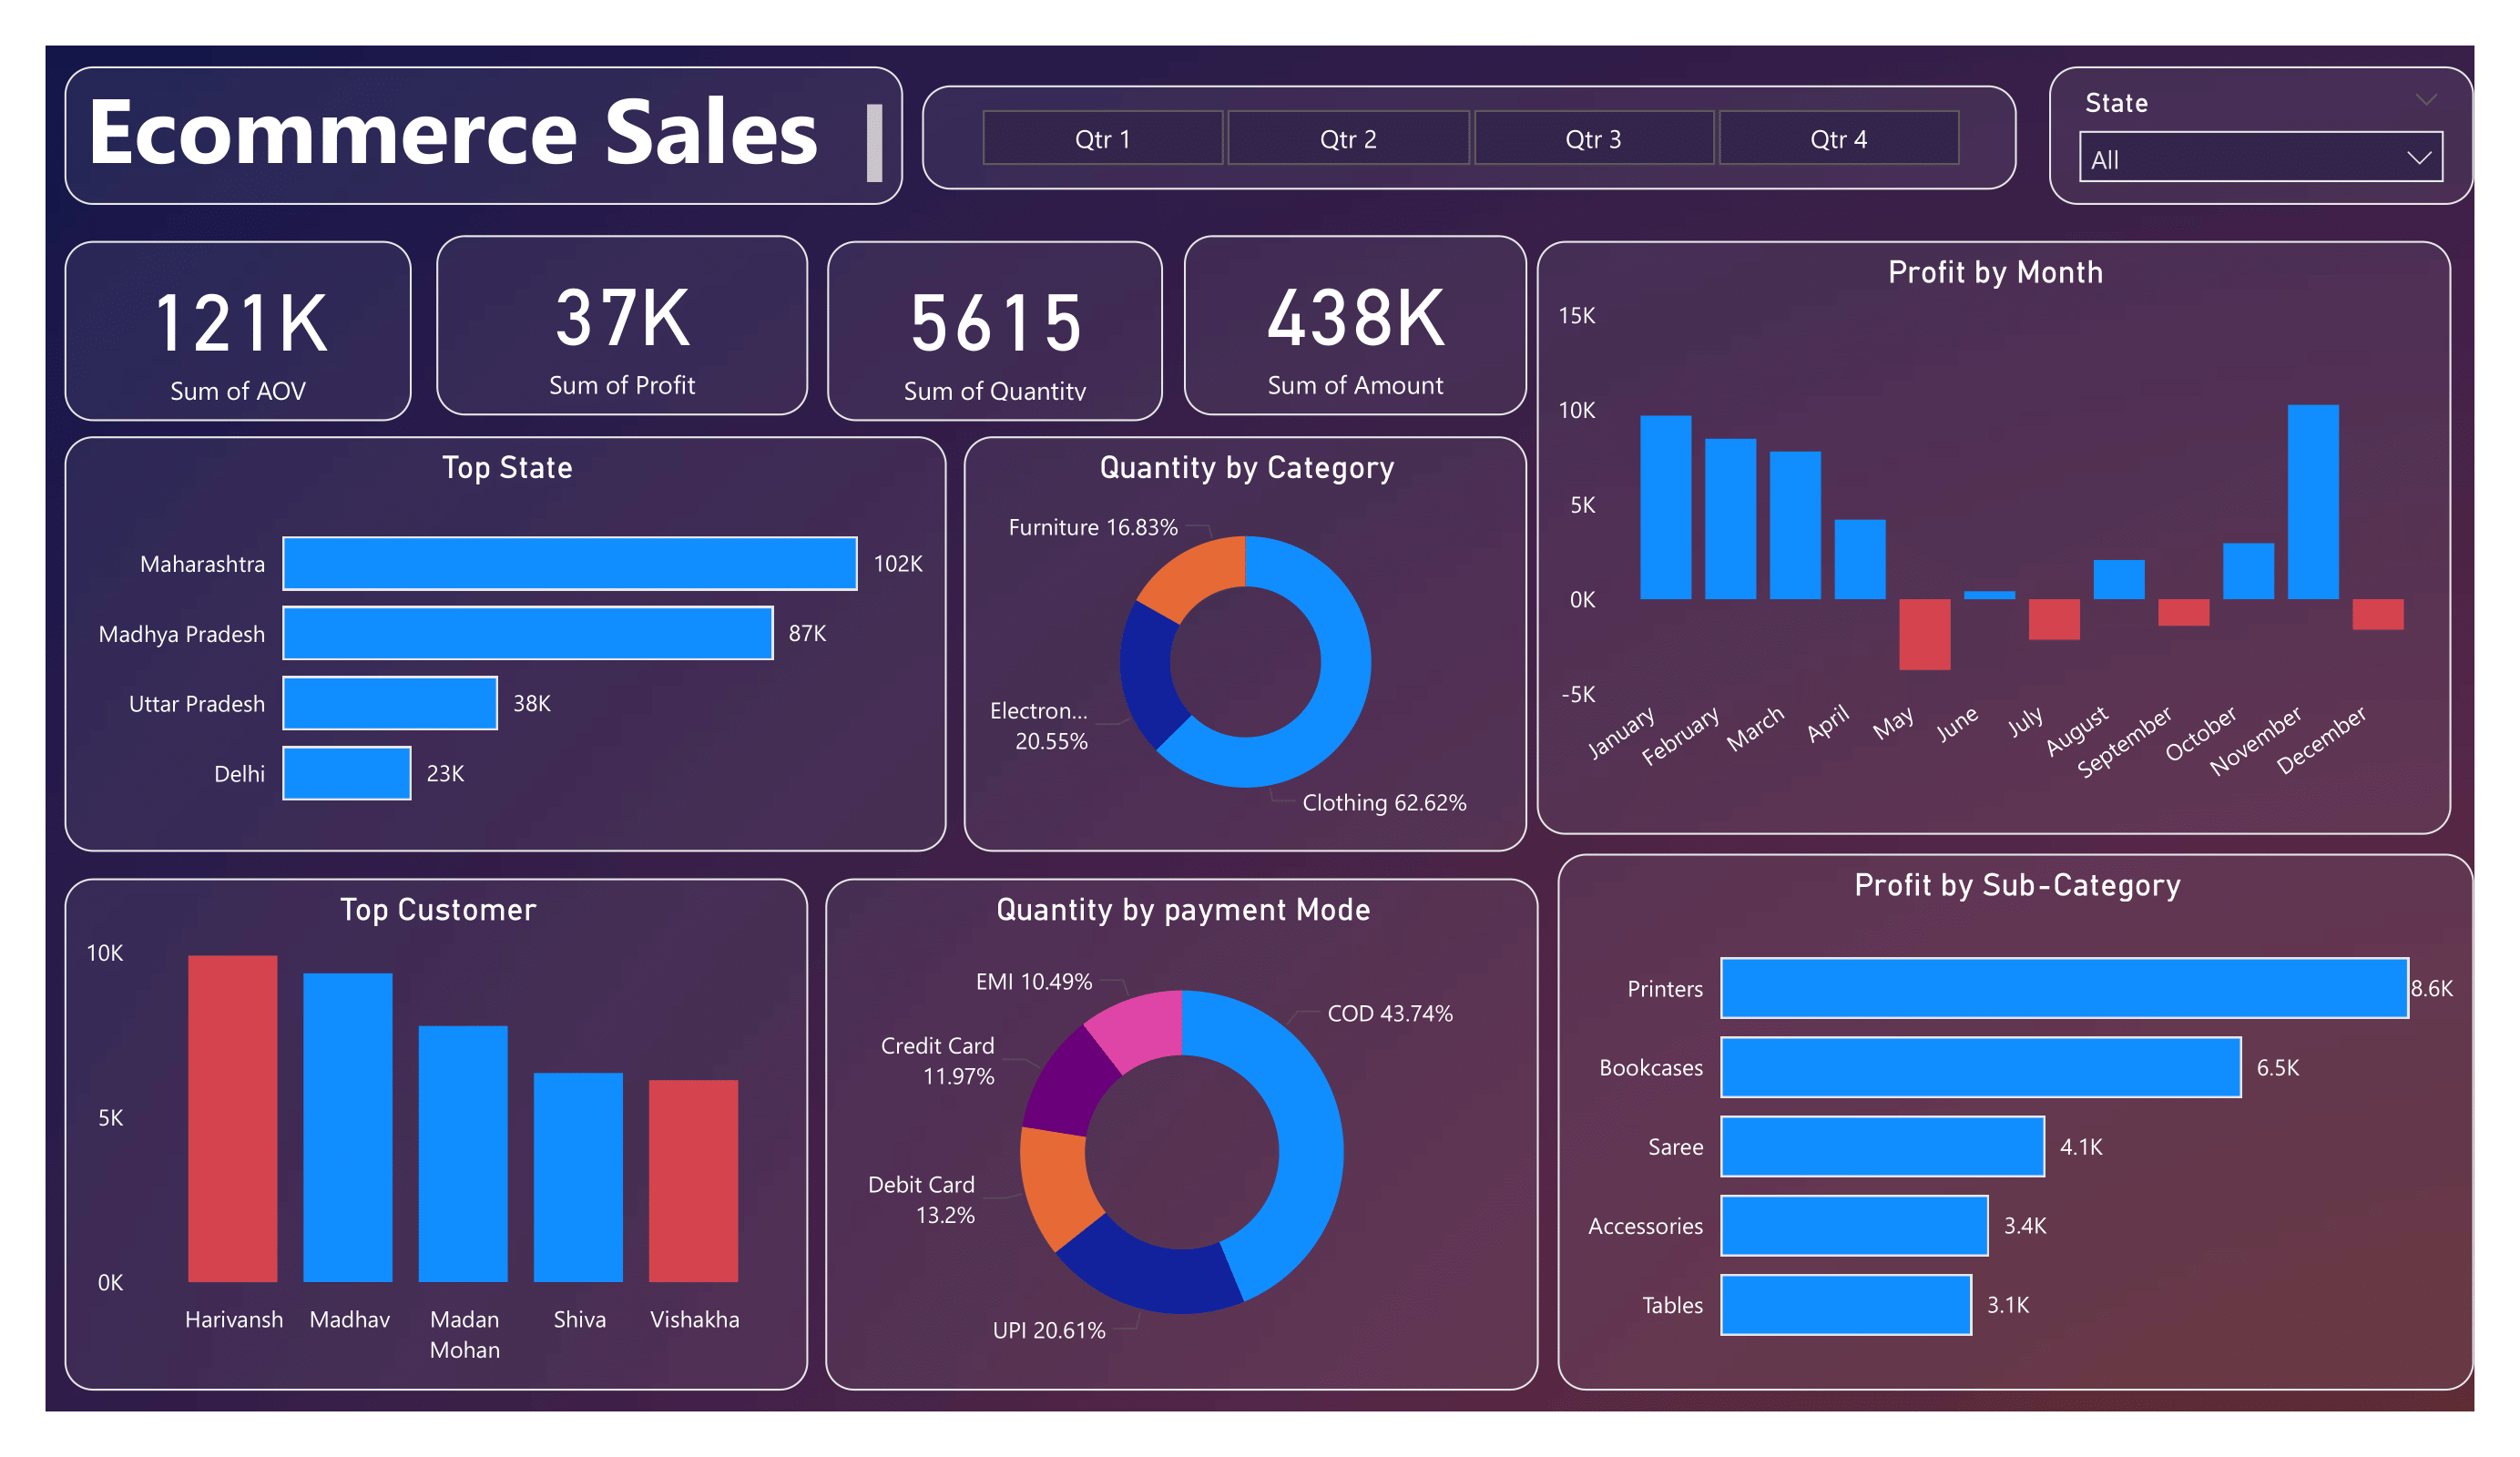

What the dashboard file says about the page in this screenshot:
{"tool":"powerbi","page":{"name":"Page 1","canvas":[1280,720],"ordinal":0},"visuals":[{"type":"textbox","box":[9.7,10.9,442.8,73.6],"z":0},{"type":"columnChart","title":"Profit by Month","fields":{"Category":["Orders.Order Date.Variation.Date Hierarchy.Month"],"Y":["Details.Profit"]},"box":[786.3,102.9,481.6,312.9],"z":1000},{"type":"barChart","title":"Profit by Sub-Category","fields":{"Y":["Details.Profit"],"Category":["Details.Sub-Category"]},"box":[797.5,425.9,482.6,283.5],"z":2000},{"type":"donutChart","title":"Quantity by Category","fields":{"Category":["Details.Category"],"Y":["Details.Quantity"]},"box":[484.4,205.8,296.4,219.6],"z":3000},{"type":"donutChart","title":"Quantity by payment Mode","fields":{"Category":["Details.PaymentMode","Details.Category"],"Y":["Details.Quantity"]},"box":[411.4,439.1,375.2,270.2],"z":4000},{"type":"card","fields":{"Values":["Details.Amount"]},"box":[599.7,100.2,181.1,94.7],"z":4001},{"type":"card","fields":{"Values":["Details.Quantity"]},"box":[411.7,102.9,177,94.7],"z":4002},{"type":"card","fields":{"Values":["Details.Profit"]},"box":[205.8,100.2,196.2,94.7],"z":4003},{"type":"card","fields":{"Values":["Details.AOV"]},"box":[9.6,102.9,183.9,94.7],"z":4004},{"type":"barChart","title":"Top State","fields":{"Category":["Orders.State"],"Y":["Details.Amount"]},"box":[9.6,205.8,465.2,219.6],"z":4005},{"type":"columnChart","title":"Top Customer","fields":{"Category":["Orders.CustomerName"],"Y":["Details.Amount"]},"box":[9.6,439.1,392.5,270.3],"z":4006},{"type":"slicer","fields":{"Values":["Orders.Order Date.Variation.Date Hierarchy.Quarter"]},"box":[462.1,20.5,576.7,55.5],"z":4007},{"type":"slicer","fields":{"Values":["Orders.State"]},"box":[1055.6,10.9,224.4,73.6],"z":4008}]}

Visuals, with their boxes on the page's 1280x720 design canvas (x1, y1, x2, y2). These are canvas units, not pixel positions in the 2520x1457 screenshot, which may show the page scaled, cropped or inside an application window:
textbox: locate(10, 11, 452, 84)
"Profit by Month" columnChart: locate(786, 103, 1268, 416)
"Profit by Sub-Category" barChart: locate(798, 426, 1280, 709)
"Quantity by Category" donutChart: locate(484, 206, 781, 425)
"Quantity by payment Mode" donutChart: locate(411, 439, 787, 709)
card - Details.Amount: locate(600, 100, 781, 195)
card - Details.Quantity: locate(412, 103, 589, 198)
card - Details.Profit: locate(206, 100, 402, 195)
card - Details.AOV: locate(10, 103, 194, 198)
"Top State" barChart: locate(10, 206, 475, 425)
"Top Customer" columnChart: locate(10, 439, 402, 709)
slicer - Orders.Order Date.Variation.Date Hierarchy.Quarter: locate(462, 20, 1039, 76)
slicer - Orders.State: locate(1056, 11, 1280, 84)
